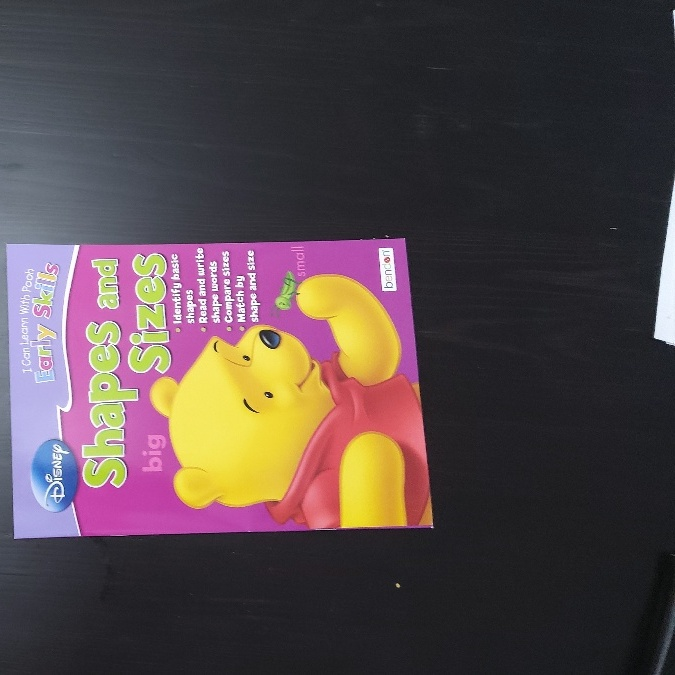book: (7, 242, 423, 526)
